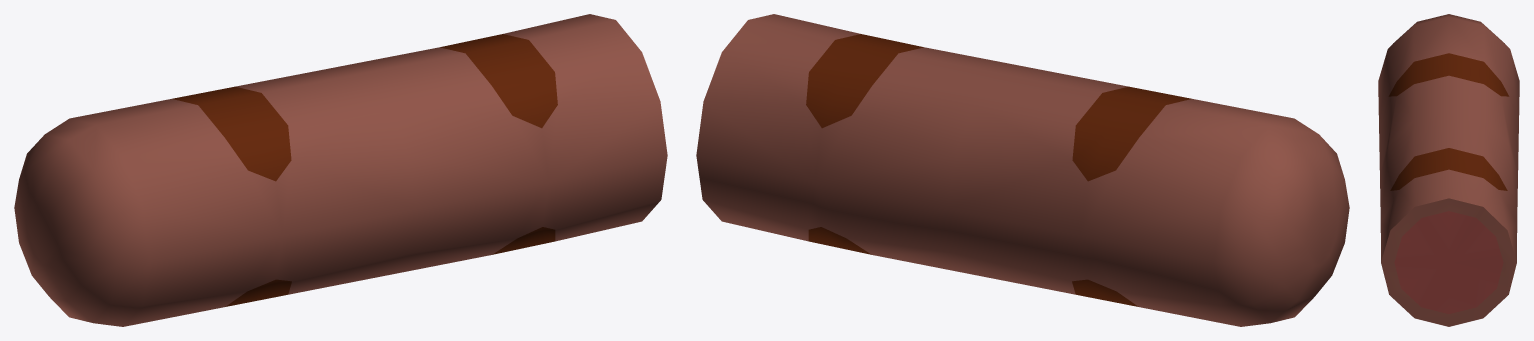
File: Sausage_gril_half.005.fbx
The picture shows the model from 3 angles, left to right: view 1: azimuth 30°, elevation 25°; view 2: azimuth 150°, elevation 25°; view 3: azimuth 270°, elevation 25°; orthographic projection. The views are drawn at different scales.
Parts seen in each view (by area): view 1: Sausage_gril_half.005; view 2: Sausage_gril_half.005; view 3: Sausage_gril_half.005.
Part boxes in pixels (x1,y1,x2,y2): Sausage_gril_half.005: (14, 14, 667, 326); Sausage_gril_half.005: (696, 14, 1349, 326); Sausage_gril_half.005: (1378, 14, 1519, 326).
Bounding box in the file's own units: 79.77 × 25.88 × 28.84.
